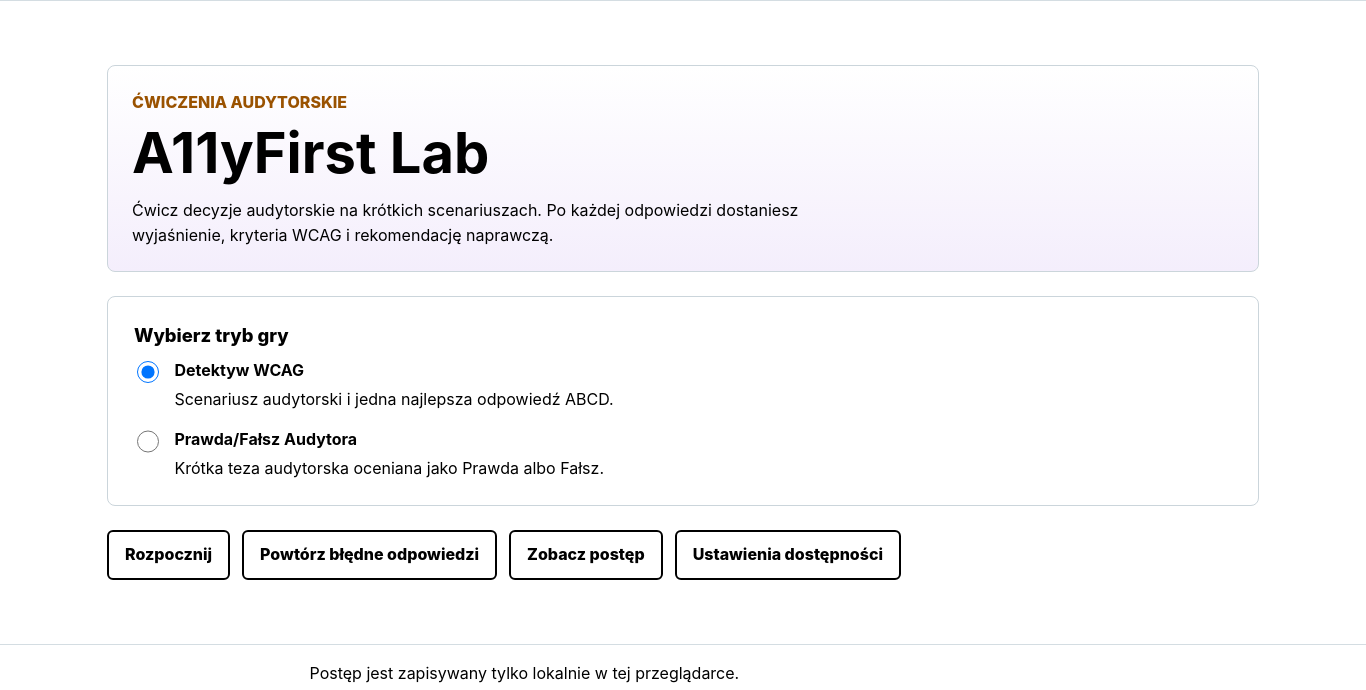
A11yFirst Lab › pozwala wybrać odpowiedź i pokazuje indywidualny feedback
Click the button "Rozpocznij".
click(169, 555)  # box [107, 530, 230, 580]
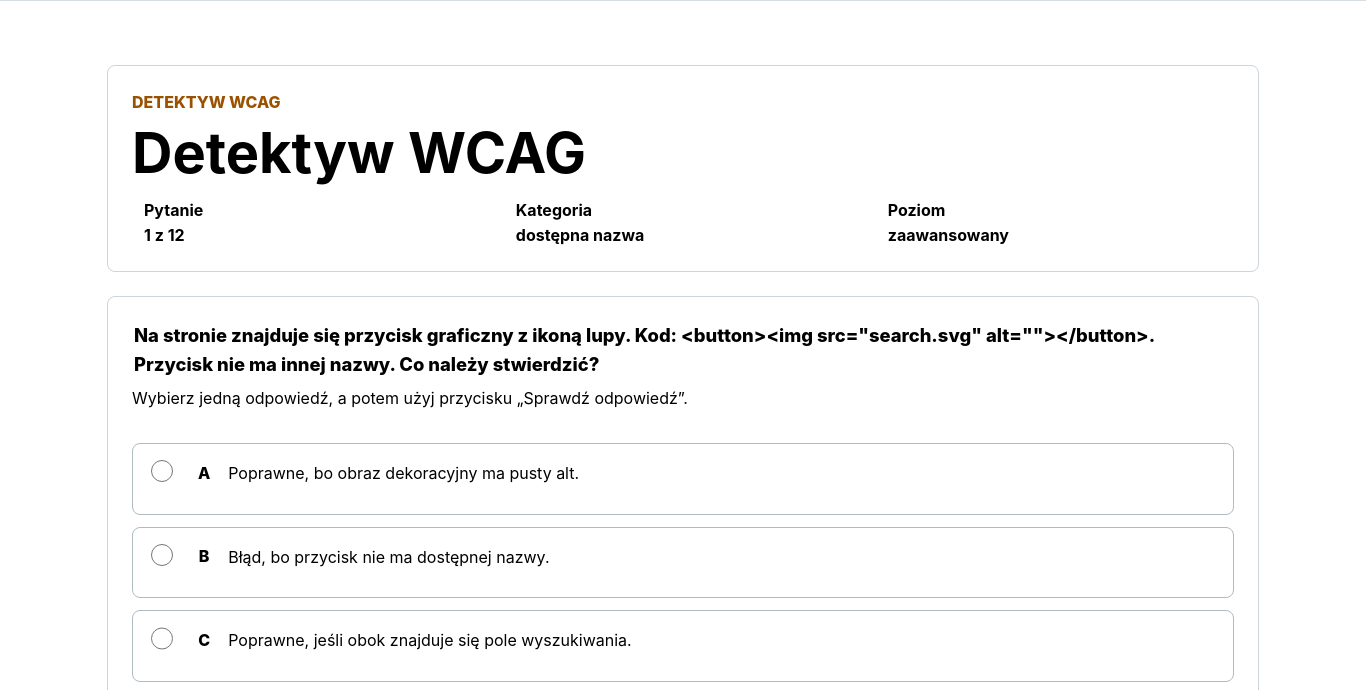
Click the radio button labelled "B Błąd, bo przycisk nie ma dostępnej nazwy.".
click(162, 555)  # box [151, 544, 173, 566]
(page scrolled)
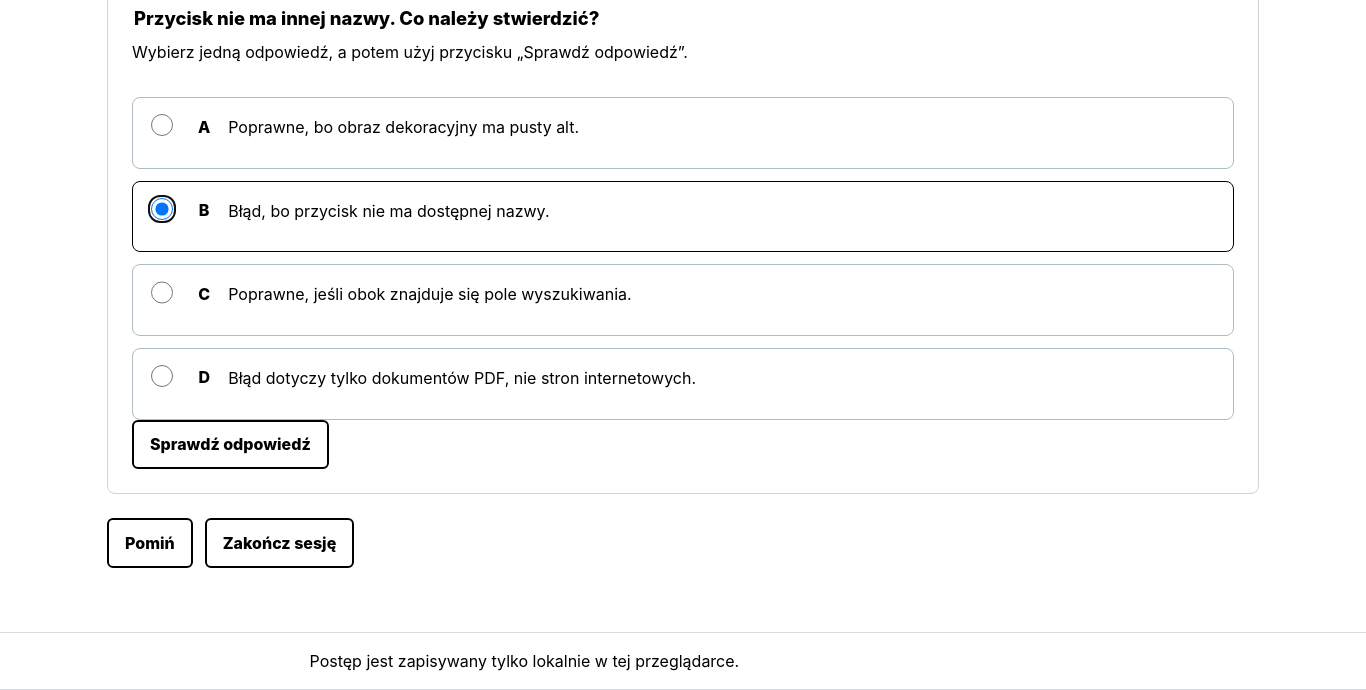
Click the button "Sprawdź odpowiedź".
click(230, 444)  # box [132, 420, 329, 469]
(page scrolled)
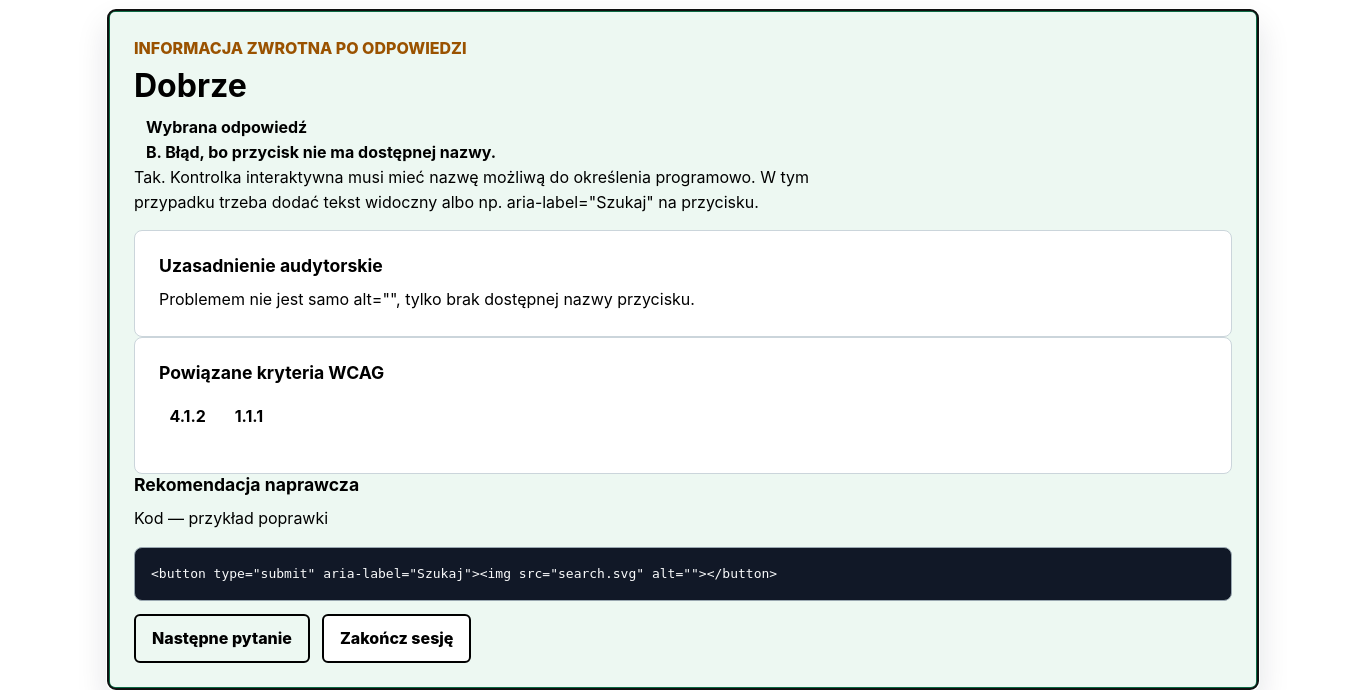
Result: the heading "Dobrze" is shown at [134, 66, 247, 104]
Result: the text "Kontrolka interaktywna musi mieć nazwę" is shown at [134, 167, 809, 212]
